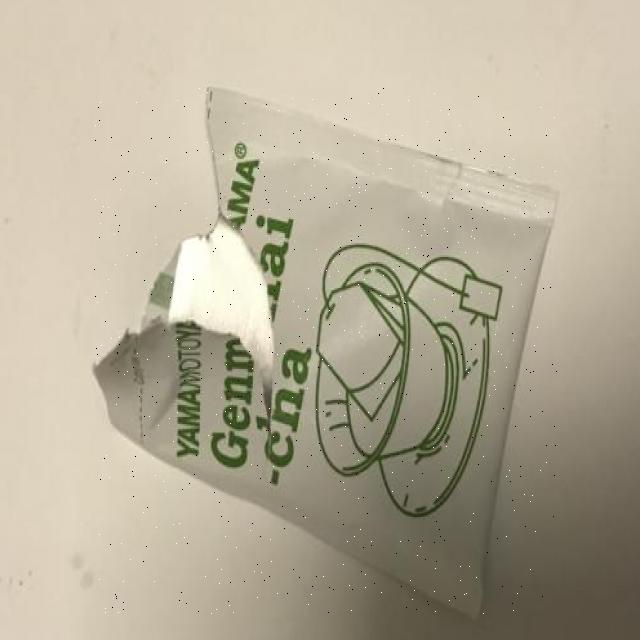wrapper: (94, 87, 557, 616)
